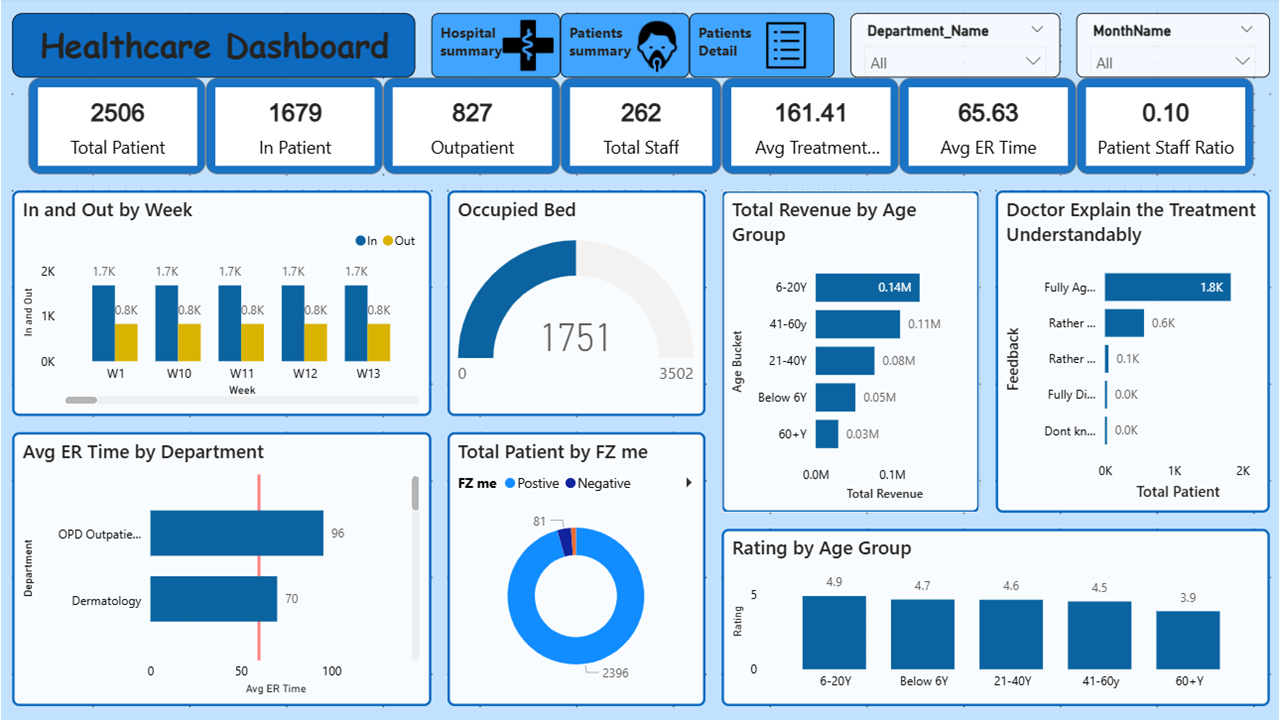

The page's visual inventory and layout, read from the dashboard file:
{"tool":"powerbi","page":{"name":"Hospital Summary ","canvas":[1280,720],"ordinal":0},"visuals":[{"type":"textbox","box":[688,16,144,64],"z":0},{"type":"cardVisual","fields":{"Data":["Measure.Total Patient"]},"box":[32,80,176,96],"z":2000},{"type":"slicer","fields":{"Values":["Department.Department_Name"]},"box":[848,16,208,64],"z":3000},{"type":"slicer","fields":{"Values":["Calendar_date.MonthName"]},"box":[1072,16,192,64],"z":4000},{"type":"cardVisual","fields":{"Data":["Measure.In Patient"]},"box":[208,80,176,96],"z":5000},{"type":"cardVisual","fields":{"Data":["Measure.Outpatient"]},"box":[384,80,176,96],"z":6000},{"type":"cardVisual","fields":{"Data":["Bed_Detail.total Staff"]},"box":[560,80,160,96],"z":7000},{"type":"cardVisual","fields":{"Data":["Measure.Avg Treatment Cost"]},"box":[720,80,176,96],"z":8000},{"type":"cardVisual","fields":{"Data":["Measure.Avg ER Time"]},"box":[896,80,176,96],"z":9000},{"type":"cardVisual","fields":{"Data":["Bed_Detail.Patient Staff Ratio"]},"box":[1072,80,176,96],"z":10000},{"type":"clusteredColumnChart","fields":{"Y":["Calendar_date.In Patient","Calendar_date.Outpatient"],"Category":["Calendar_date.WeekName"]},"box":[16,192,416,224],"z":11000},{"type":"gauge","fields":{"Y":["Divide(Measure.Occupied Bed, ScopedEval(Measure.Occupied Bed, []))"]},"box":[448,192,256,224],"z":12000},{"type":"clusteredBarChart","title":"Total Revenue by Age Group","fields":{"Y":["Measure.Total Revenue"],"Category":["Detail data dataset.Age Bucket"]},"box":[720,192,256,320],"z":13000},{"type":"barChart","fields":{"Y":["Measure.Avg ER Time"],"Category":["Department.Department_Name"]},"box":[16,432,416,272],"z":14000},{"type":"barChart","title":"Doctor Explain the Treatment Understandably","fields":{"Y":["Measure.Total Patient"],"Category":["Detail data dataset.Feedback"]},"box":[992,192,272,320],"z":15000},{"type":"columnChart","title":"Rating by Age Group","fields":{"Y":["Measure.Rating"],"Category":["Detail data dataset.Age Bucket"]},"box":[720,528,544,176],"z":16000},{"type":"donutChart","fields":{"Y":["Measure.Total Patient"],"Category":["Detail data dataset.FZ me"]},"box":[448,432,256,272],"z":17000},{"type":"textbox","box":[16,16,400,64],"z":18000},{"type":"textbox","box":[432,16,128,64],"z":19000},{"type":"image","box":[496,16,64,64],"z":20000},{"type":"textbox","box":[560,16,128,64],"z":21000},{"type":"image","box":[624,16,64,64],"z":22000},{"type":"image","box":[752,16,64,64],"z":23000}]}

Visuals, with their boxes in screenshot pixels (x1, y1, x2, y2), scaled from the page's 1280x720 canvas onto the 1280x720 screenshot:
textbox: (x1=688, y1=16, x2=832, y2=80)
cardVisual - Measure.Total Patient: (x1=32, y1=80, x2=208, y2=176)
slicer - Department.Department_Name: (x1=848, y1=16, x2=1056, y2=80)
slicer - Calendar_date.MonthName: (x1=1072, y1=16, x2=1264, y2=80)
cardVisual - Measure.In Patient: (x1=208, y1=80, x2=384, y2=176)
cardVisual - Measure.Outpatient: (x1=384, y1=80, x2=560, y2=176)
cardVisual - Bed_Detail.total Staff: (x1=560, y1=80, x2=720, y2=176)
cardVisual - Measure.Avg Treatment Cost: (x1=720, y1=80, x2=896, y2=176)
cardVisual - Measure.Avg ER Time: (x1=896, y1=80, x2=1072, y2=176)
cardVisual - Bed_Detail.Patient Staff Ratio: (x1=1072, y1=80, x2=1248, y2=176)
clusteredColumnChart - Calendar_date.In Patient x Calendar_date.Outpatient: (x1=16, y1=192, x2=432, y2=416)
gauge - Divide(Measure.Occupied Bed, ScopedEval(Measure.Occupied Bed, [])): (x1=448, y1=192, x2=704, y2=416)
"Total Revenue by Age Group" clusteredBarChart: (x1=720, y1=192, x2=976, y2=512)
barChart - Measure.Avg ER Time x Department.Department_Name: (x1=16, y1=432, x2=432, y2=704)
"Doctor Explain the Treatment Understandably" barChart: (x1=992, y1=192, x2=1264, y2=512)
"Rating by Age Group" columnChart: (x1=720, y1=528, x2=1264, y2=704)
donutChart - Measure.Total Patient x Detail data dataset.FZ me: (x1=448, y1=432, x2=704, y2=704)
textbox: (x1=16, y1=16, x2=416, y2=80)
textbox: (x1=432, y1=16, x2=560, y2=80)
image: (x1=496, y1=16, x2=560, y2=80)
textbox: (x1=560, y1=16, x2=688, y2=80)
image: (x1=624, y1=16, x2=688, y2=80)
image: (x1=752, y1=16, x2=816, y2=80)
